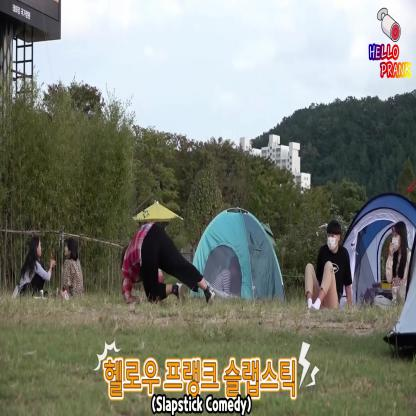Fall_Down: (120, 220, 216, 307)
